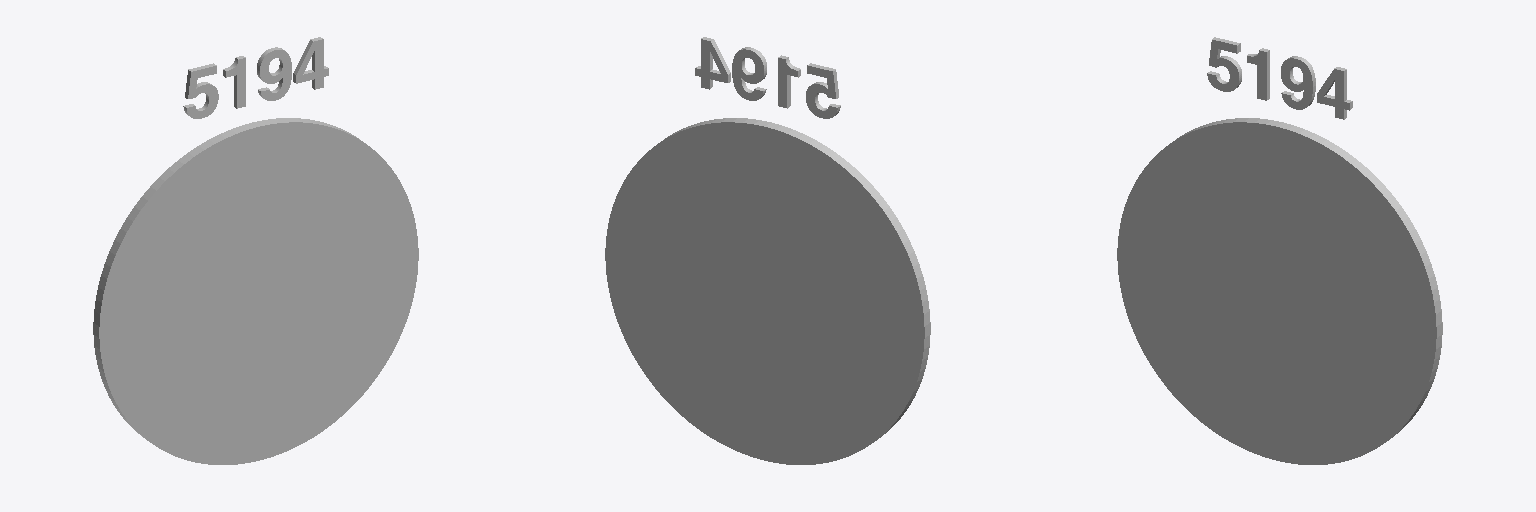
File: TAZO_CODIGO_5194.obj
3 views of the same model, side by side, from view 1: azimuth 30°, elevation 25°; view 2: azimuth 150°, elevation 25°; view 3: azimuth 330°, elevation 25° (orthographic).
Visible parts, largest first — view 1: CARA_FRONTAL, 5194, EXTRUDE; view 2: CARA_TRASERA, 5194, EXTRUDE; view 3: CARA_FRONTAL, 5194, EXTRUDE.
Boxes of the visible parts, <box> form: CARA_FRONTAL: <box>99,122,418,464</box>; 5194: <box>183,37,328,118</box>; EXTRUDE: <box>93,118,365,437</box>; CARA_TRASERA: <box>605,122,924,464</box>; 5194: <box>695,37,840,118</box>; EXTRUDE: <box>658,118,930,437</box>; CARA_FRONTAL: <box>1117,122,1436,464</box>; 5194: <box>1207,37,1352,119</box>; EXTRUDE: <box>1170,118,1442,437</box>.
Bounding box in the file's own units: 3002 × 3644 × 98.07.